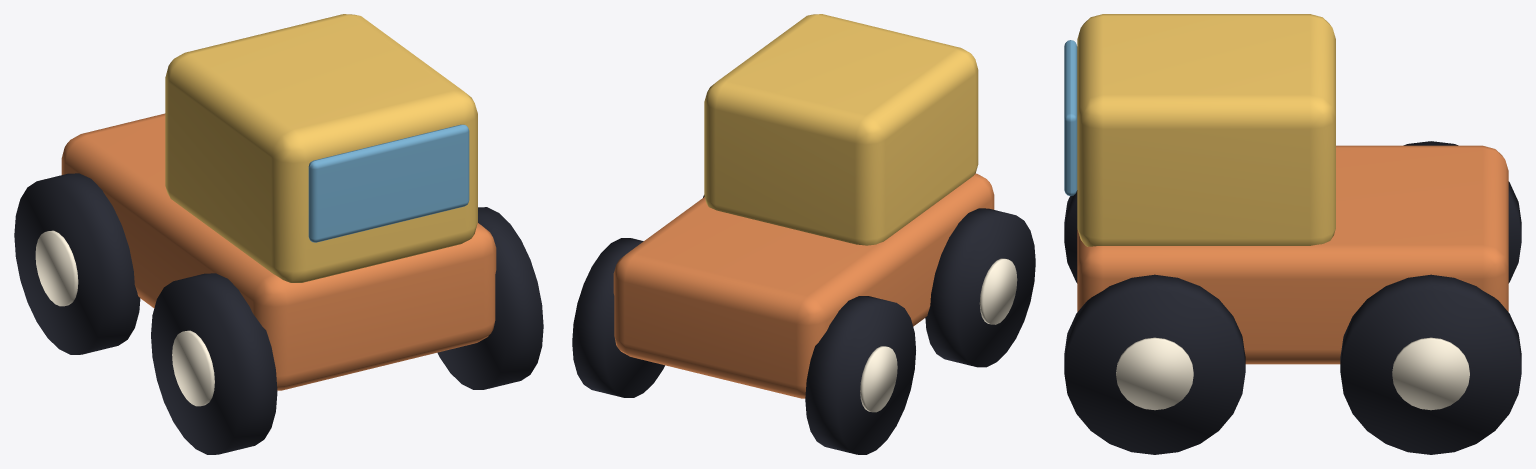
File: ava-opposite-fast.glb
The picture shows the model from 3 angles, left to right: view 1: azimuth 30°, elevation 25°; view 2: azimuth 150°, elevation 25°; view 3: azimuth 270°, elevation 25°; orthographic projection. The views are drawn at different scales.
Visible parts, largest first — view 1: cabin, vehicle body, rubber wheel, rubber wheel.001, windshield, rubber wheel.002, wheel hub, wheel hub.001; view 2: cabin, vehicle body, rubber wheel.001, rubber wheel, rubber wheel.003, wheel hub.001, wheel hub; view 3: cabin, vehicle body, rubber wheel.002, rubber wheel.003, wheel hub.002, wheel hub.003, windshield, rubber wheel.001, rubber wheel.
Boxes of the visible parts, x1,y1,x2,y2 form: cabin: (165,14,477,282); vehicle body: (61,113,496,390); rubber wheel: (151,273,277,454); rubber wheel.001: (14,173,140,354); windshield: (308,124,469,242); rubber wheel.002: (437,207,543,389); wheel hub: (172,330,214,406); wheel hub.001: (35,230,78,306); cabin: (704,14,978,245); vehicle body: (613,173,994,398); rubber wheel.001: (805,296,915,454); rubber wheel: (925,208,1035,367); rubber wheel.003: (572,238,664,397); wheel hub.001: (860,346,897,412); wheel hub: (979,258,1017,324); cabin: (1077,14,1335,246); vehicle body: (1077,145,1508,364); rubber wheel.002: (1064,274,1245,454); rubber wheel.003: (1340,274,1521,454); wheel hub.002: (1116,337,1193,410); wheel hub.003: (1392,337,1469,410); windshield: (1064,40,1077,196); rubber wheel.001: (1403,141,1521,283); rubber wheel: (1064,190,1077,283).
Size of the model in its own units: 0.844 by 0.83 by 1.06.
